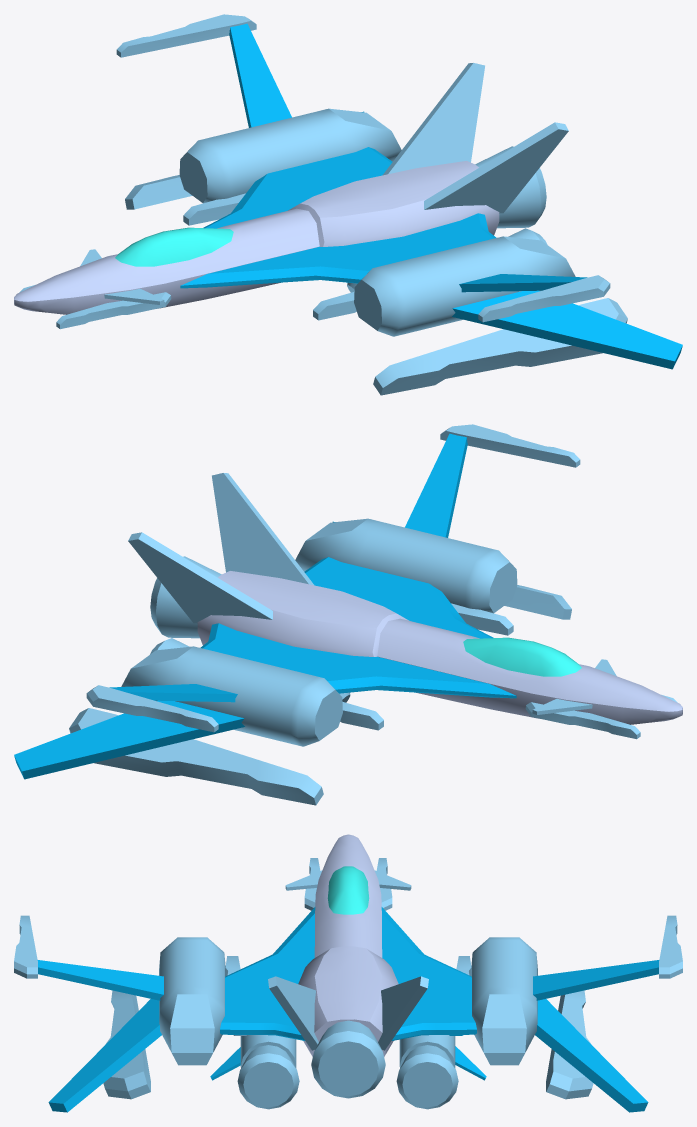
The model's file is Player.fbx.
3 views of the same model, one above another, from view 1: azimuth 30°, elevation 25°; view 2: azimuth 150°, elevation 25°; view 3: azimuth 270°, elevation 25° (orthographic). The views are drawn at different scales.
Parts seen in each view (by area): view 1: StarSparrow01; view 2: StarSparrow01; view 3: StarSparrow01.
Boxes of the visible parts, bbox=[...] form: StarSparrow01: bbox=[14, 14, 682, 395]; StarSparrow01: bbox=[14, 424, 682, 805]; StarSparrow01: bbox=[14, 834, 682, 1112].
Bounding box in the file's own units: 1085 × 326 × 1364.
